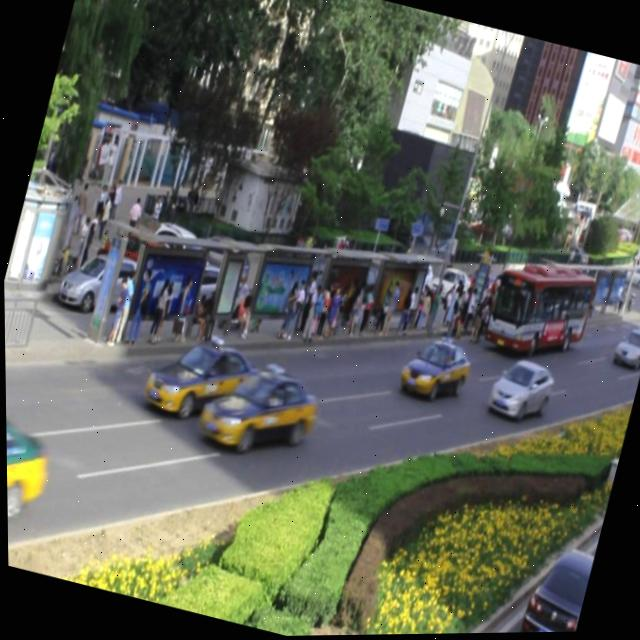car: (191, 353, 322, 467), (138, 324, 270, 433), (5, 406, 55, 535), (394, 329, 474, 406), (481, 351, 556, 427), (608, 325, 640, 371), (630, 312, 640, 346)
van: (475, 247, 595, 370)
